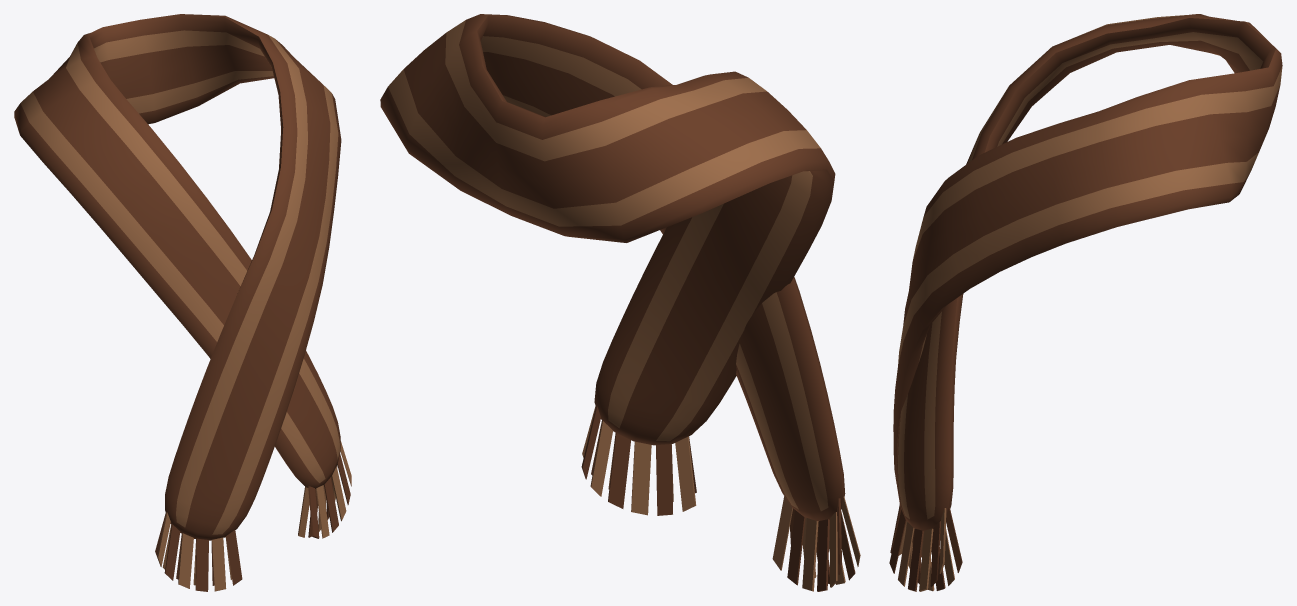
Rendered from scarf.fbx.
The picture shows the model from 3 angles, left to right: view 1: azimuth 30°, elevation 25°; view 2: azimuth 150°, elevation 25°; view 3: azimuth 270°, elevation 25°; orthographic projection. The views are drawn at different scales.
Parts seen in each view (by area): view 1: Plane; view 2: Plane; view 3: Plane.
Boxes of the visible parts, x1=… form: Plane: x1=14, y1=14, x2=351, y2=591; Plane: x1=380, y1=14, x2=860, y2=591; Plane: x1=889, y1=14, x2=1282, y2=591.
Size of the model in its own units: 0.2738 by 0.2668 by 0.4113.
